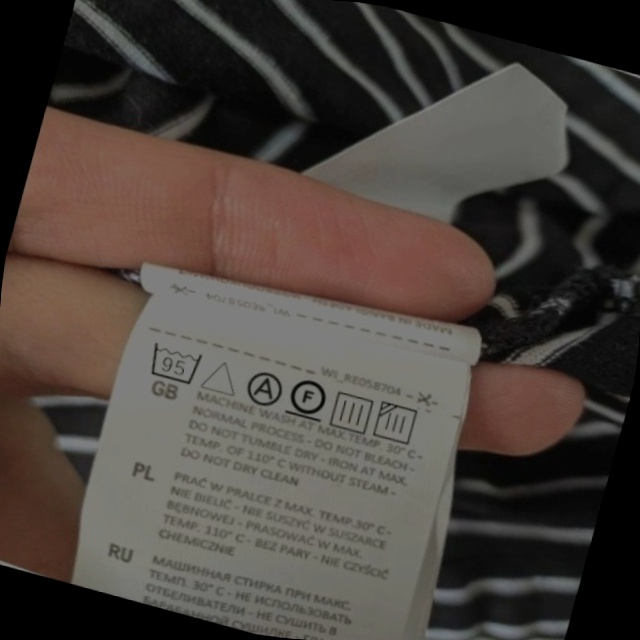95C: (144, 337, 208, 389)
bleach: (199, 352, 243, 401)
drip_dry: (326, 386, 379, 437)
drip_dry_in_shade: (371, 397, 425, 451)
dry_clean: (240, 366, 287, 411)
dry_clean_petrol_only: (284, 371, 333, 425)
